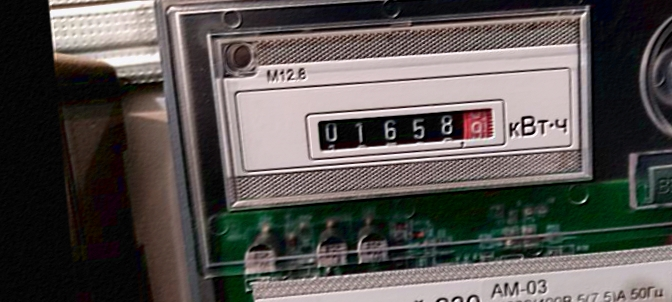0: (323, 120, 338, 143)
1: (353, 121, 365, 143)
5: (410, 116, 426, 140)
6: (381, 118, 397, 141)
8: (437, 112, 453, 136)
9: (466, 119, 482, 141)
screen: (297, 89, 514, 168)
